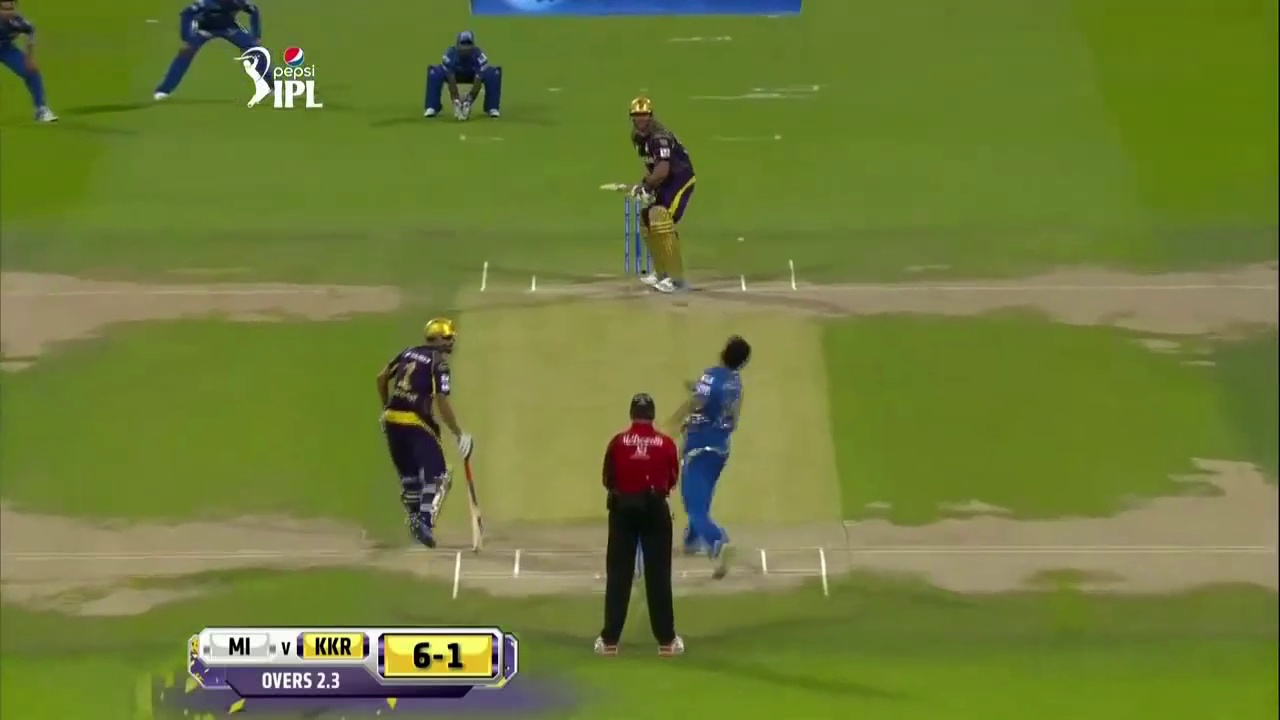bat: (461, 462, 486, 553)
